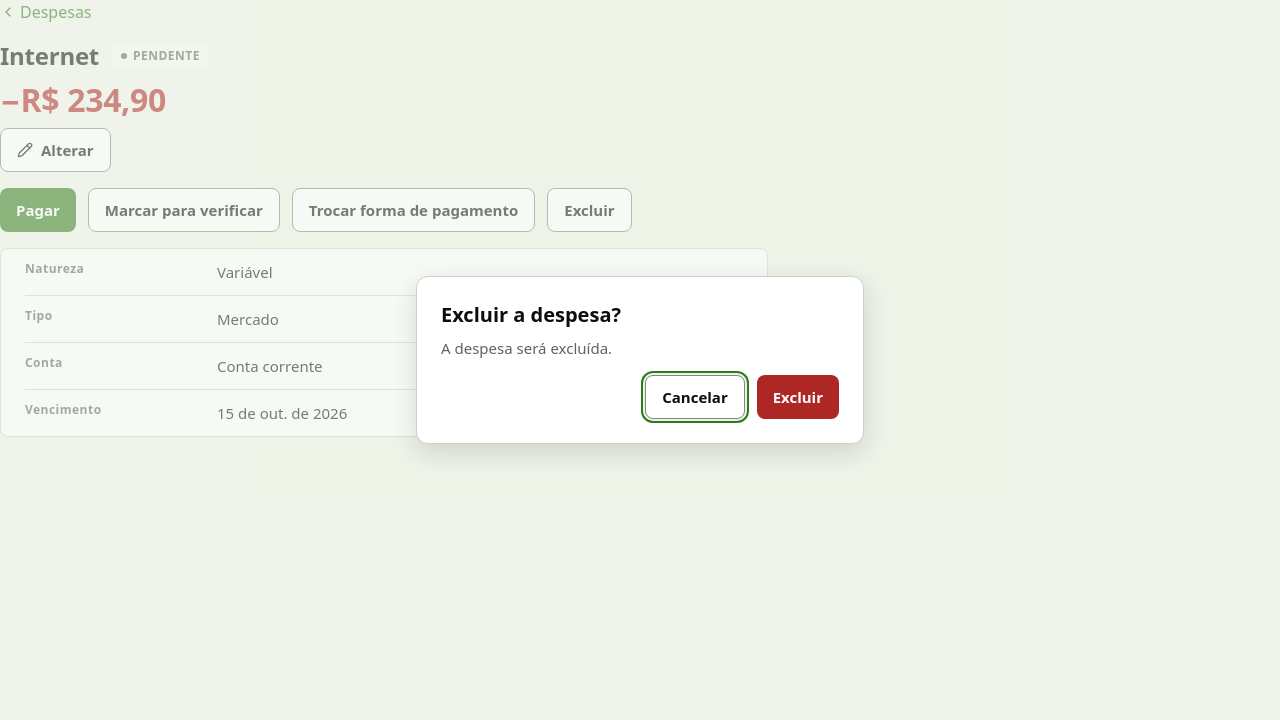
Test: ExpenseDetailPage actions (spec 0012) › goes back to the list when the expense is gone
This screenshot has width=1280, height=720.
Click the button "Excluir". click: x=798, y=397
box: [757,375,839,419]
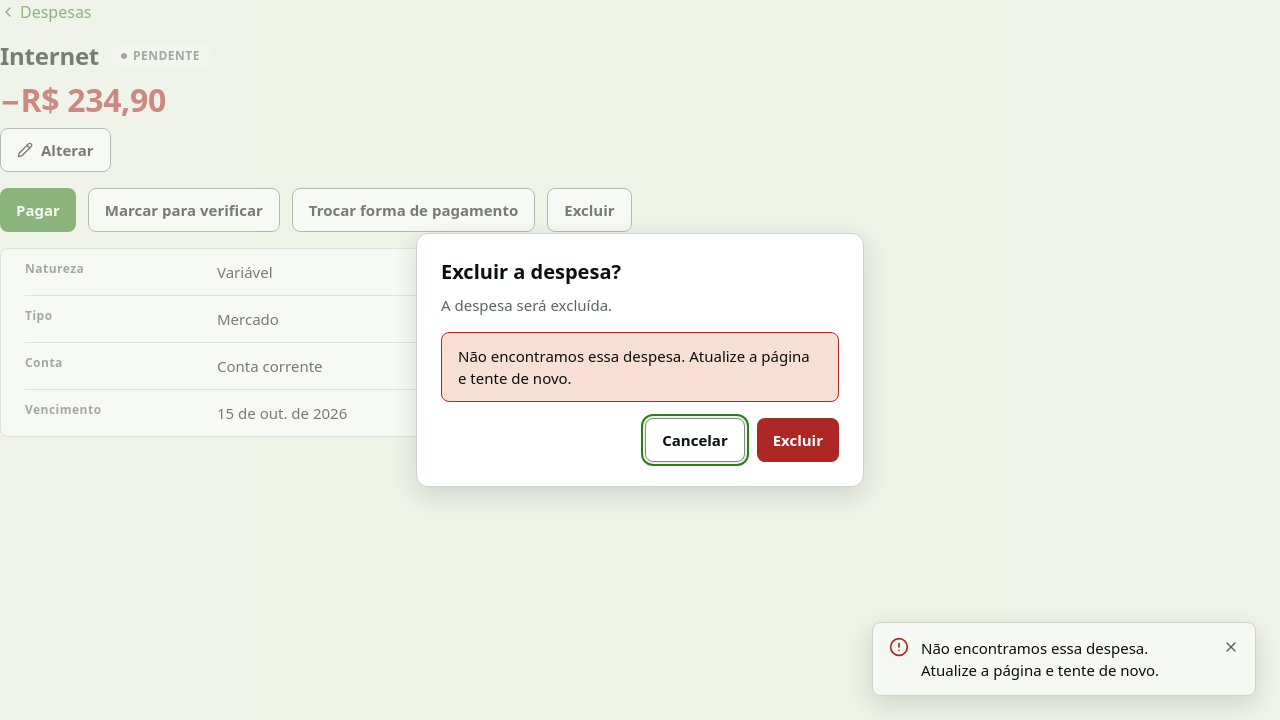
expect the element named "Avisos" reads "Não encontramos essa despesa. Atualize a página e tente de novo.": met, box [921,638,1159,680]
